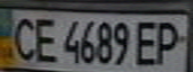4: (57, 16, 81, 65)
6: (78, 17, 100, 65)
8: (93, 18, 115, 65)
9: (112, 18, 136, 66)
C: (6, 12, 39, 63)
E: (30, 15, 60, 64), (133, 17, 163, 66)
P: (151, 17, 187, 68)
